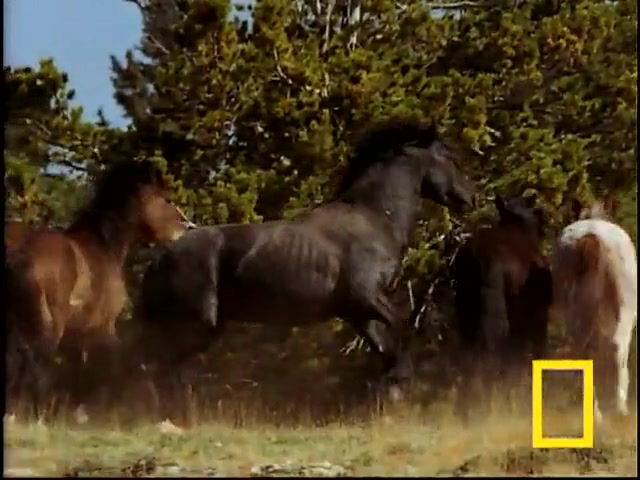horse: (139, 115, 479, 425)
